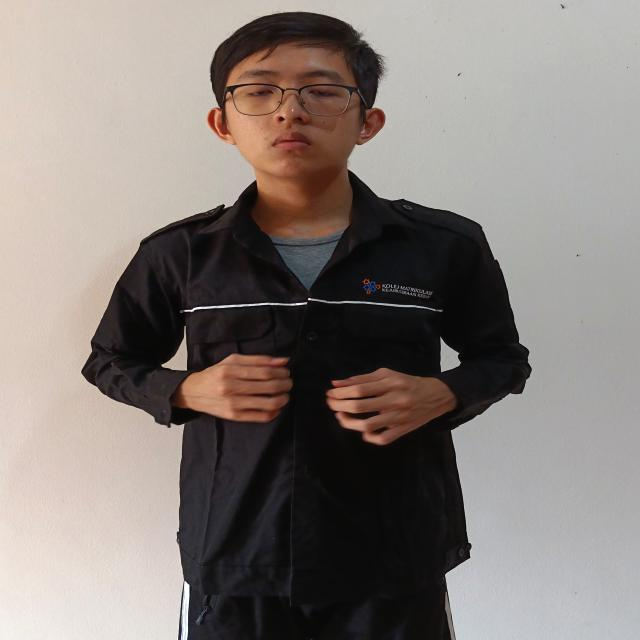person_with_labcoat: (83, 12, 530, 640)
